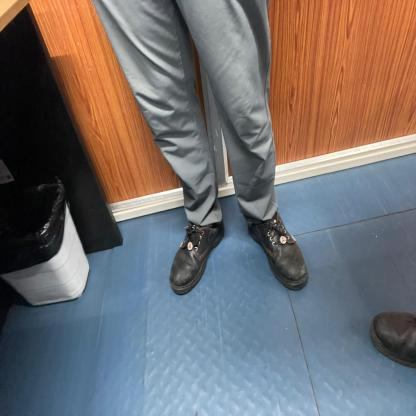bota: (247, 209, 308, 291), (168, 217, 226, 297), (368, 302, 416, 366)
